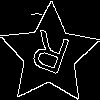R: (24, 29, 73, 84)
